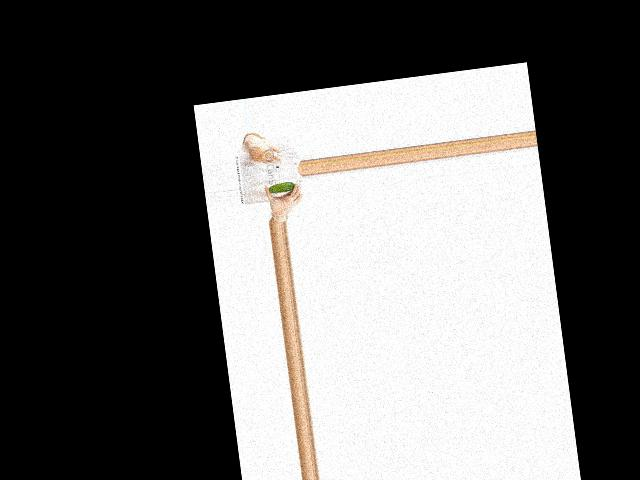cucumber: (267, 182, 295, 195)
